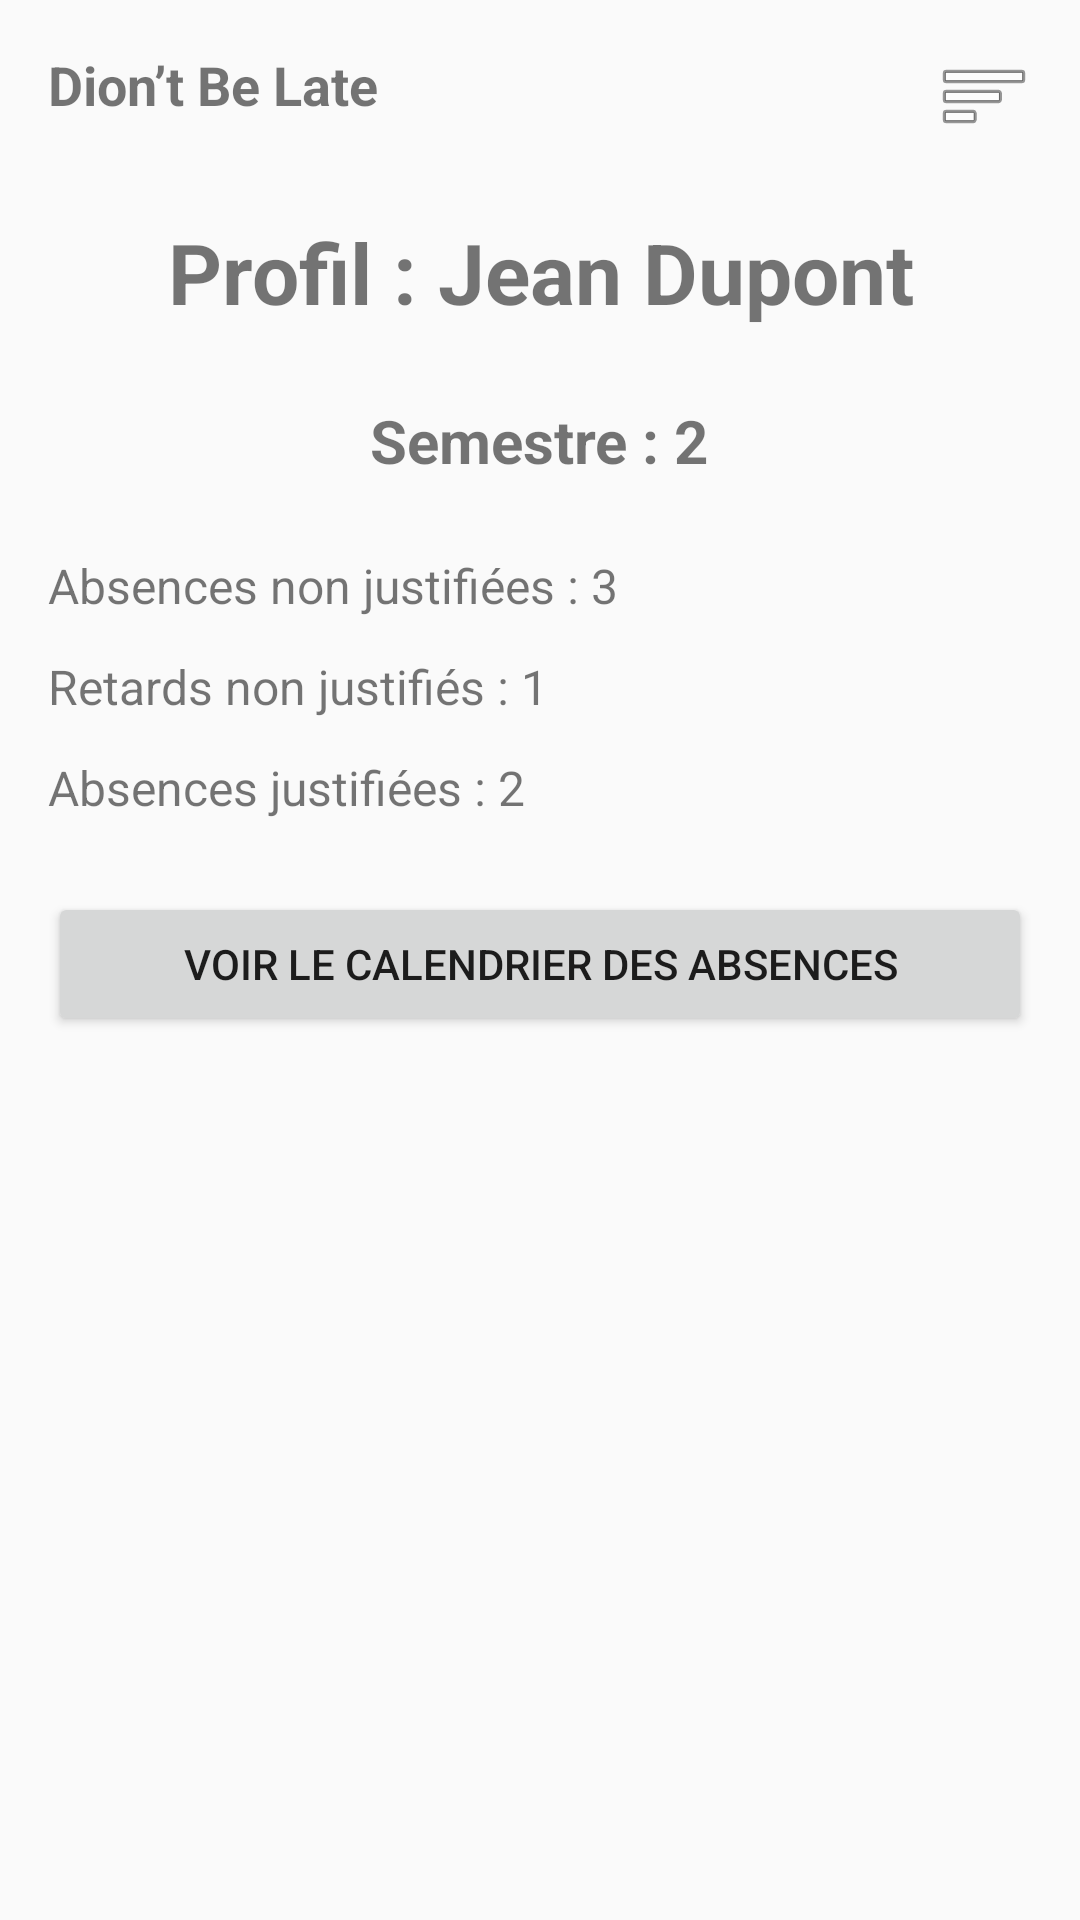

Named icons in this screenshot (1080x1920) and their centers, point (x, y):
Menu: point (984, 96)
